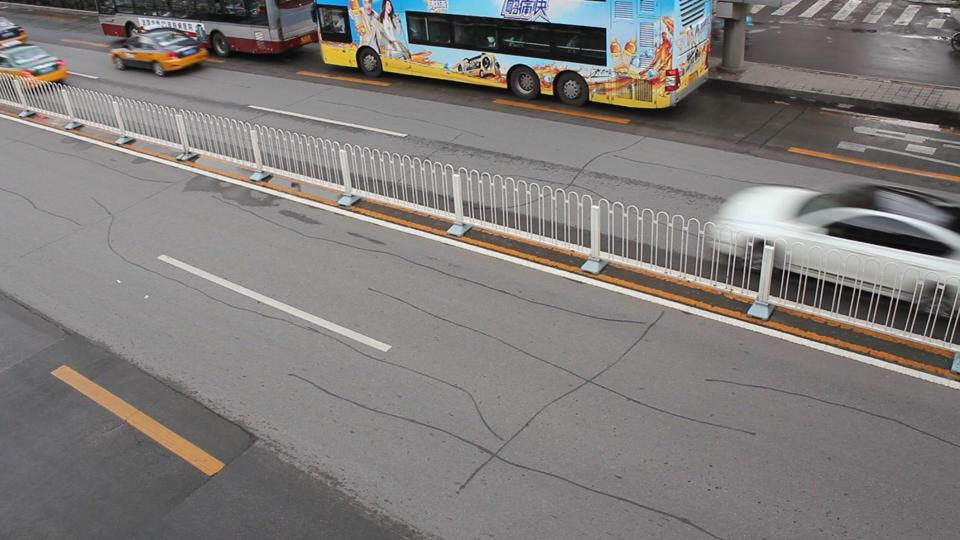bus: (312, 0, 718, 111), (95, 0, 321, 57)
car: (705, 183, 960, 326), (109, 28, 210, 76), (0, 43, 69, 84), (0, 16, 29, 44)
person: (932, 13, 960, 36)
